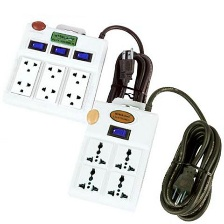three_eye_plug: (0, 19, 113, 125), (63, 96, 162, 216)
